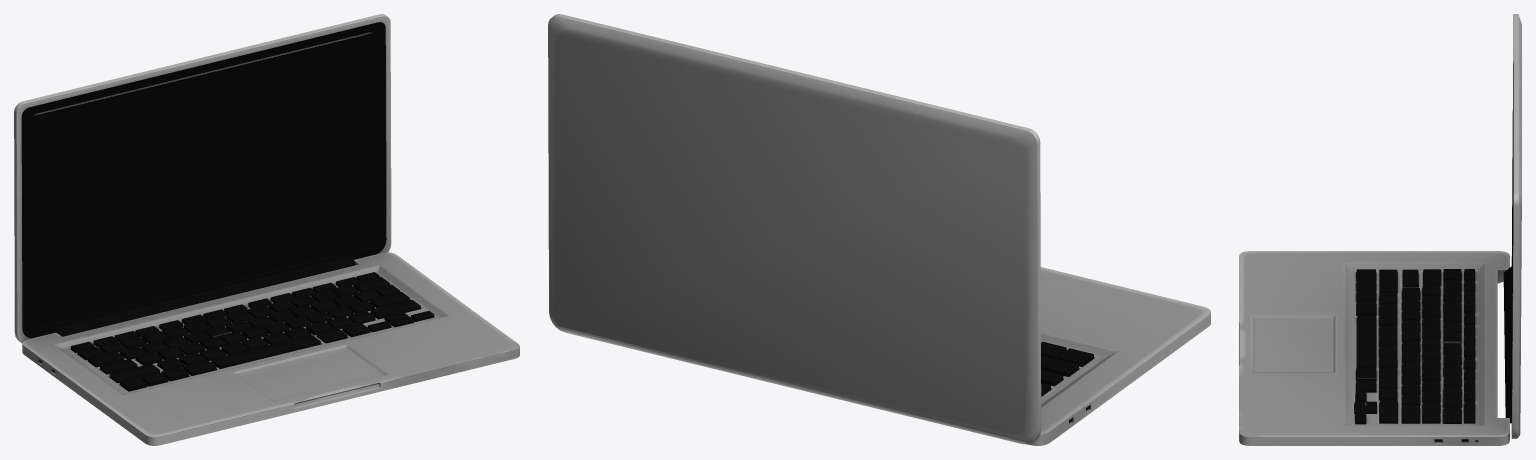
File: laptop.gltf
3 renders of one model, left to right at view 1: azimuth 30°, elevation 25°; view 2: azimuth 150°, elevation 25°; view 3: azimuth 270°, elevation 25°, orthographic. The views are drawn at different scales.
Bounding box in the file's own units: 6.83 × 4.39 × 4.38.
7 materials, 4 textured.
